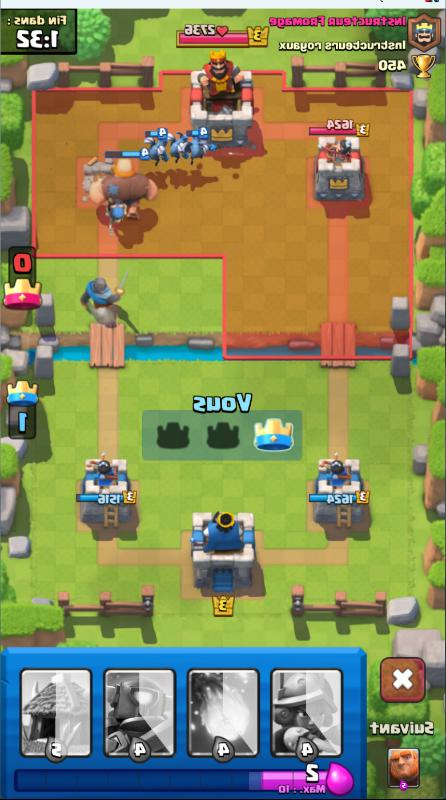chevalier: (73, 264, 137, 322)
gargouille: (126, 125, 162, 177), (179, 129, 216, 177), (163, 122, 184, 173), (175, 161, 177, 162)
geant: (93, 152, 158, 223)
